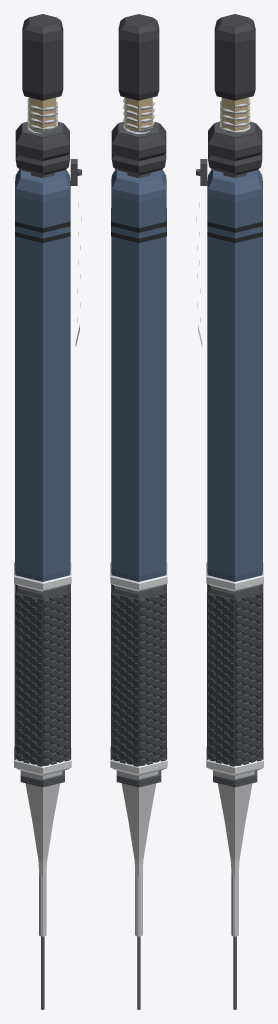
File: mechanical-pencil-mobile.glb
3 renders of one model, left to right at view 1: azimuth 90°, elevation 25°; view 2: azimuth 150°, elevation 25°; view 3: azimuth 270°, elevation 25°, orthographic.
Parts seen in each view (by area): view 1: barrelHex, gripLattice, gripSleeve, buttonHex, topCollar, noseHex, eraserSleeve, gripRingTop, gripRingBot, barrelGrooves, buttonSpring, leadSleeve (+4 smaller); view 2: barrelHex, gripLattice, gripSleeve, buttonHex, topCollar, noseHex, eraserSleeve, gripRingTop, barrelGrooves, gripRingBot, buttonSpring, leadSleeve (+3 smaller); view 3: barrelHex, gripLattice, buttonHex, gripSleeve, topCollar, noseHex, eraserSleeve, gripRingTop, gripRingBot, barrelGrooves, buttonSpring, leadSleeve (+4 smaller).
Boxes of the visible parts, x1,y1,x2,y2 form: barrelHex: (15, 169, 70, 581); gripLattice: (14, 584, 70, 766); gripSleeve: (15, 584, 69, 764); buttonHex: (22, 14, 63, 100); topCollar: (15, 123, 69, 175); noseHex: (23, 771, 62, 859); eraserSleeve: (29, 97, 56, 131); gripRingTop: (14, 562, 71, 591); gripRingBot: (14, 747, 71, 775); barrelGrooves: (15, 221, 70, 243); buttonSpring: (27, 98, 57, 133); leadSleeve: (39, 871, 46, 936); barrelHex: (111, 169, 166, 581); gripLattice: (111, 584, 166, 766); gripSleeve: (111, 584, 166, 764); buttonHex: (118, 14, 159, 100); topCollar: (111, 123, 166, 175); noseHex: (119, 771, 158, 859); eraserSleeve: (125, 97, 152, 131); gripRingTop: (110, 562, 167, 591); barrelGrooves: (111, 208, 166, 242); gripRingBot: (110, 747, 167, 775); buttonSpring: (123, 97, 154, 133); leadSleeve: (135, 870, 142, 936); barrelHex: (207, 169, 262, 581); gripLattice: (207, 584, 263, 766); buttonHex: (214, 14, 255, 100); gripSleeve: (208, 584, 262, 764); topCollar: (208, 123, 262, 175); noseHex: (215, 771, 254, 859); eraserSleeve: (221, 97, 248, 131); gripRingTop: (206, 562, 263, 591); gripRingBot: (206, 747, 263, 775); barrelGrooves: (207, 221, 262, 243); buttonSpring: (220, 99, 250, 133); leadSleeve: (231, 871, 238, 936).
Bounding box in the file's own units: 0.93 × 15.3 × 0.9503.
